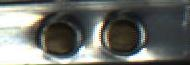joints: (96, 10, 148, 61), (34, 9, 82, 62)
